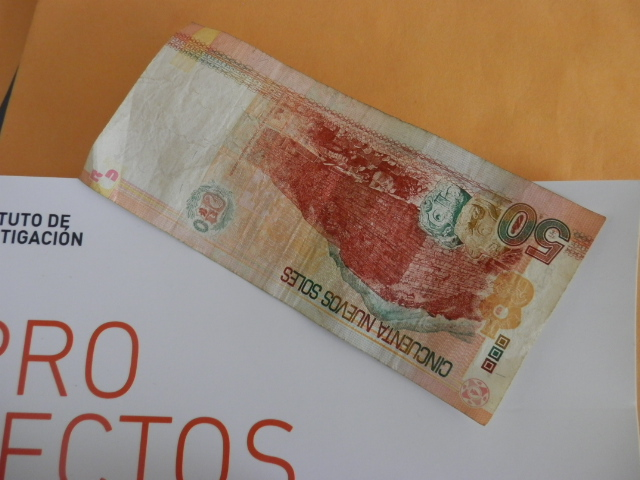B50: (97, 26, 598, 425)
